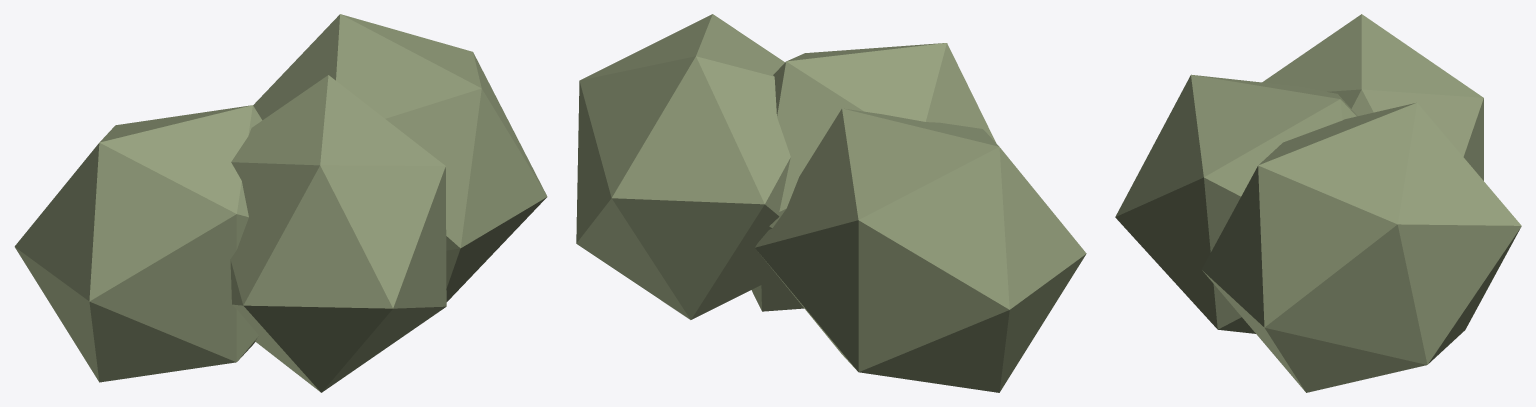
The picture shows the model from 3 angles, left to right: view 1: azimuth 30°, elevation 25°; view 2: azimuth 150°, elevation 25°; view 3: azimuth 270°, elevation 25°; orthographic projection. The views are drawn at different scales.
Parts seen in each view (by area): view 1: V05; view 2: V05; view 3: V05.
Boxes of the visible parts, box(x1,y1,x2,y2) form: V05: box(14, 14, 547, 392); V05: box(576, 14, 1086, 392); V05: box(1115, 14, 1521, 392).
Size of the model in its own units: 0.7965 by 0.4814 by 0.6229.
